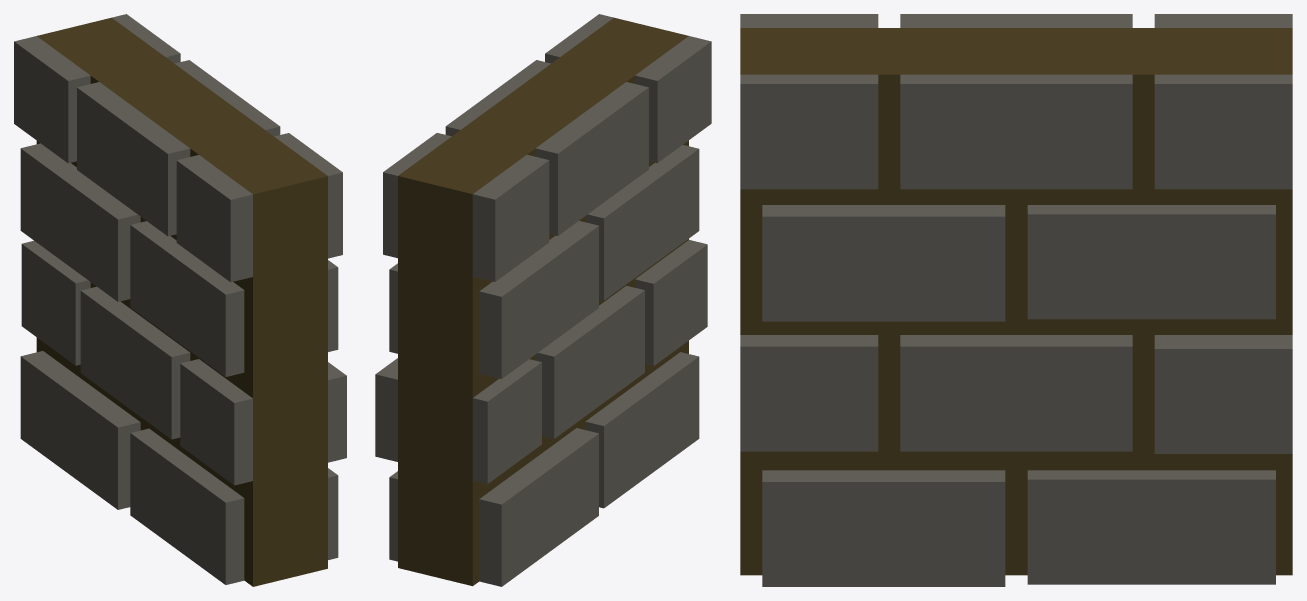
Rendered from A_BrickWall02.fbx.
The picture shows the model from 3 angles, left to right: view 1: azimuth 30°, elevation 25°; view 2: azimuth 150°, elevation 25°; view 3: azimuth 270°, elevation 25°; orthographic projection. The views are drawn at different scales.
Parts seen in each view (by area): view 1: A_BrickWall02; view 2: A_BrickWall02; view 3: A_BrickWall02.
Boxes of the visible parts, bbox=[...] form: A_BrickWall02: bbox=[14, 14, 346, 586]; A_BrickWall02: bbox=[375, 14, 711, 586]; A_BrickWall02: bbox=[740, 14, 1292, 586].
Size of the model in its own units: 32 by 100 by 100.
